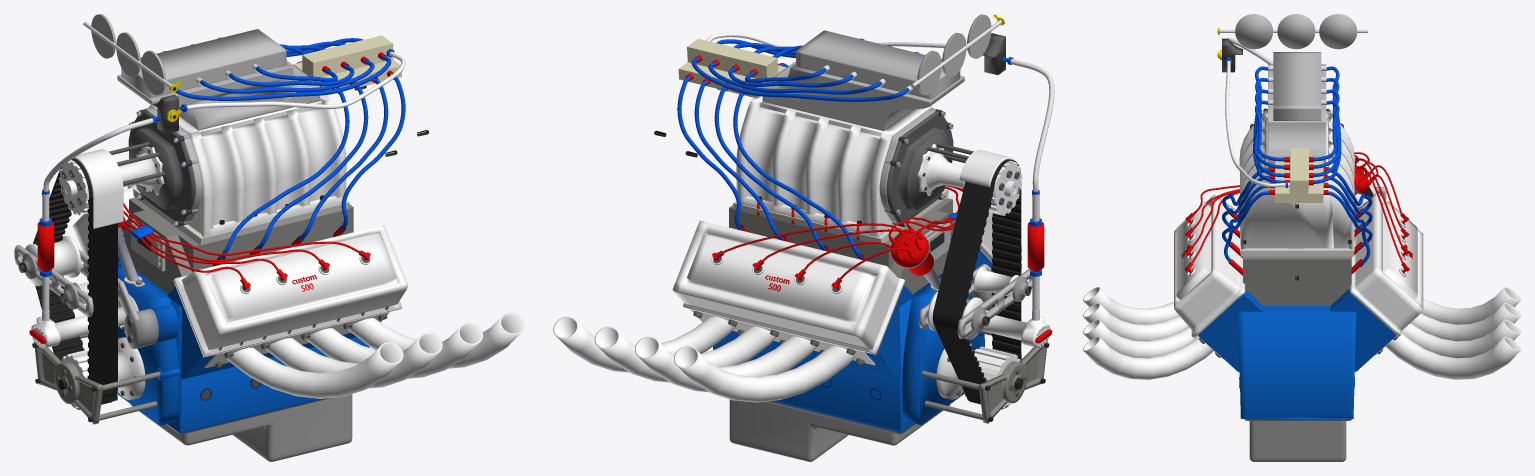
The model's file is engine_no_cover.glb.
3 renders of one model, left to right at view 1: azimuth 30°, elevation 25°; view 2: azimuth 150°, elevation 25°; view 3: azimuth 270°, elevation 25°, orthographic. The views are drawn at different scales.
Parts seen in each view (by area): view 1: ensemble_moteur, bloc_moteur, collecteurs_echappement, cables_allumage, reservoir, cache_distribution, arbre_a_cames, durites; view 2: ensemble_moteur, bloc_moteur, collecteurs_echappement, cables_allumage, reservoir, cache_distribution, arbre_a_cames, BezierCurve, durites; view 3: ensemble_moteur, bloc_moteur, collecteurs_echappement, cables_allumage, reservoir, cache_distribution, durites, BezierCurve.
Part boxes in pixels (bbox=[...]): ensemble_moteur: bbox=[14, 14, 428, 433]; bloc_moteur: bbox=[25, 95, 408, 408]; collecteurs_echappement: bbox=[127, 185, 524, 398]; cables_allumage: bbox=[163, 37, 405, 259]; reservoir: bbox=[130, 394, 352, 461]; cache_distribution: bbox=[117, 60, 319, 130]; arbre_a_cames: bbox=[83, 14, 171, 95]; durites: bbox=[119, 202, 360, 278]; ensemble_moteur: bbox=[654, 14, 1054, 432]; bloc_moteur: bbox=[672, 96, 1050, 408]; collecteurs_echappement: bbox=[553, 186, 947, 402]; cables_allumage: bbox=[677, 32, 967, 259]; reservoir: bbox=[729, 399, 950, 461]; cache_distribution: bbox=[762, 61, 964, 131]; arbre_a_cames: bbox=[911, 15, 1002, 95]; BezierCurve: bbox=[722, 223, 917, 279]; durites: bbox=[888, 185, 963, 256]; ensemble_moteur: bbox=[1184, 14, 1409, 418]; bloc_moteur: bbox=[1174, 112, 1423, 338]; collecteurs_echappement: bbox=[1083, 287, 1520, 379]; cables_allumage: bbox=[1222, 60, 1372, 267]; reservoir: bbox=[1244, 419, 1351, 461]; cache_distribution: bbox=[1268, 64, 1326, 167]; durites: bbox=[1191, 152, 1378, 263]; BezierCurve: bbox=[1357, 158, 1402, 262].
Bounding box in the file's own units: 8.49 × 9.73 × 10.5.
